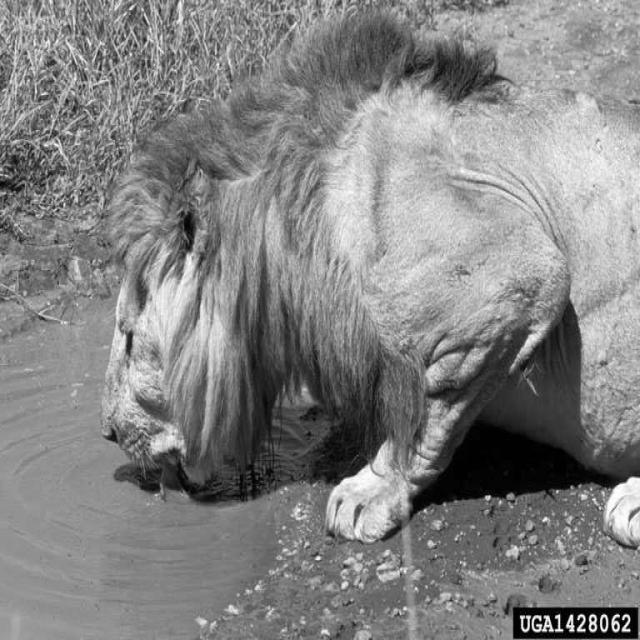Lion: (70, 106, 523, 552)
